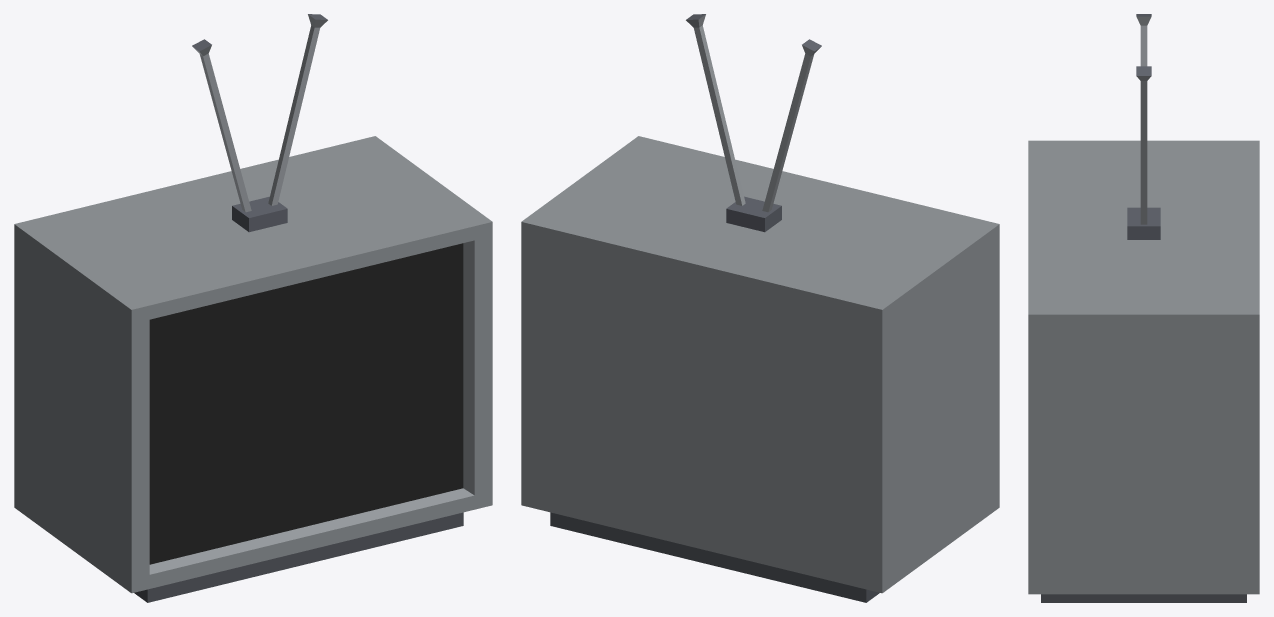
3 views of the same model, side by side, from view 1: azimuth 30°, elevation 25°; view 2: azimuth 150°, elevation 25°; view 3: azimuth 270°, elevation 25° (orthographic).
Visible parts, largest first — view 1: polySurface1519; view 2: polySurface1519; view 3: polySurface1519.
Boxes of the visible parts, x1,y1,x2,y2 form: polySurface1519: (14, 14, 492, 602); polySurface1519: (521, 14, 999, 602); polySurface1519: (1028, 14, 1259, 602).
Bounding box in the file's own units: 0.8 × 1.05 × 0.45.
1 material, 1 textured.
